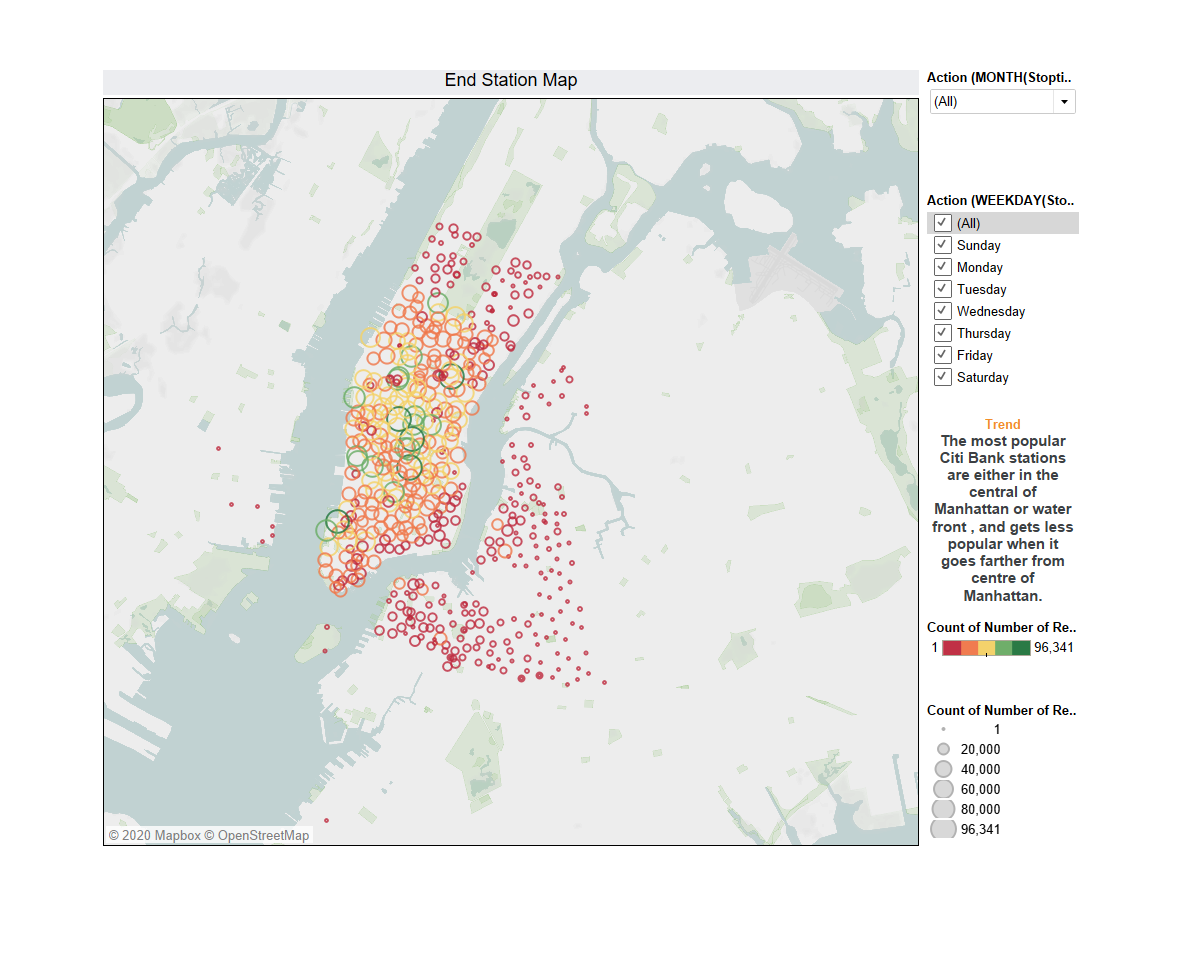

The page's visual inventory and layout, read from the dashboard file:
{"tool":"tableau","page":{"name":"Station Map Dashboard","canvas":[1000,800],"ordinal":5},"visuals":[{"type":"worksheet","title":"End Station Map","mark":"Shape","rows":["end station latitude"],"cols":["end station longitude"],"box":[8,8,824,784]},{"type":"filter","title":"End Station Map","param":"[federated.1mewo8x06ns2is1c3jf3m0rmrl03].[Action (MONTH(Stoptime))]","box":[832,8,160,123]},{"type":"filter","title":"End Station Map","param":"[federated.1mewo8x06ns2is1c3jf3m0rmrl03].[Action (WEEKDAY(Stoptime))]","box":[832,131,160,223]},{"type":"text","box":[832,354,160,204]},{"type":"legend","title":"End Station Map","param":"[federated.1mewo8x06ns2is1c3jf3m0rmrl03].[cnt:Number of Records:qk]","box":[832,558,160,83]},{"type":"legend","title":"End Station Map","param":"[federated.1mewo8x06ns2is1c3jf3m0rmrl03].[cnt:Number of Records:qk]","box":[832,641,160,151]}]}

Visuals, with their boxes in screenshot pixels (x1, y1, x2, y2), scaled from the page's 1000x800 canvas onto the 1185x961 screenshot:
"End Station Map" worksheet (Shape marks): [x1=9, y1=10, x2=986, y2=951]
"End Station Map" filter: [x1=986, y1=10, x2=1176, y2=157]
"End Station Map" filter: [x1=986, y1=157, x2=1176, y2=425]
text: [x1=986, y1=425, x2=1176, y2=670]
"End Station Map" legend: [x1=986, y1=670, x2=1176, y2=770]
"End Station Map" legend: [x1=986, y1=770, x2=1176, y2=951]
